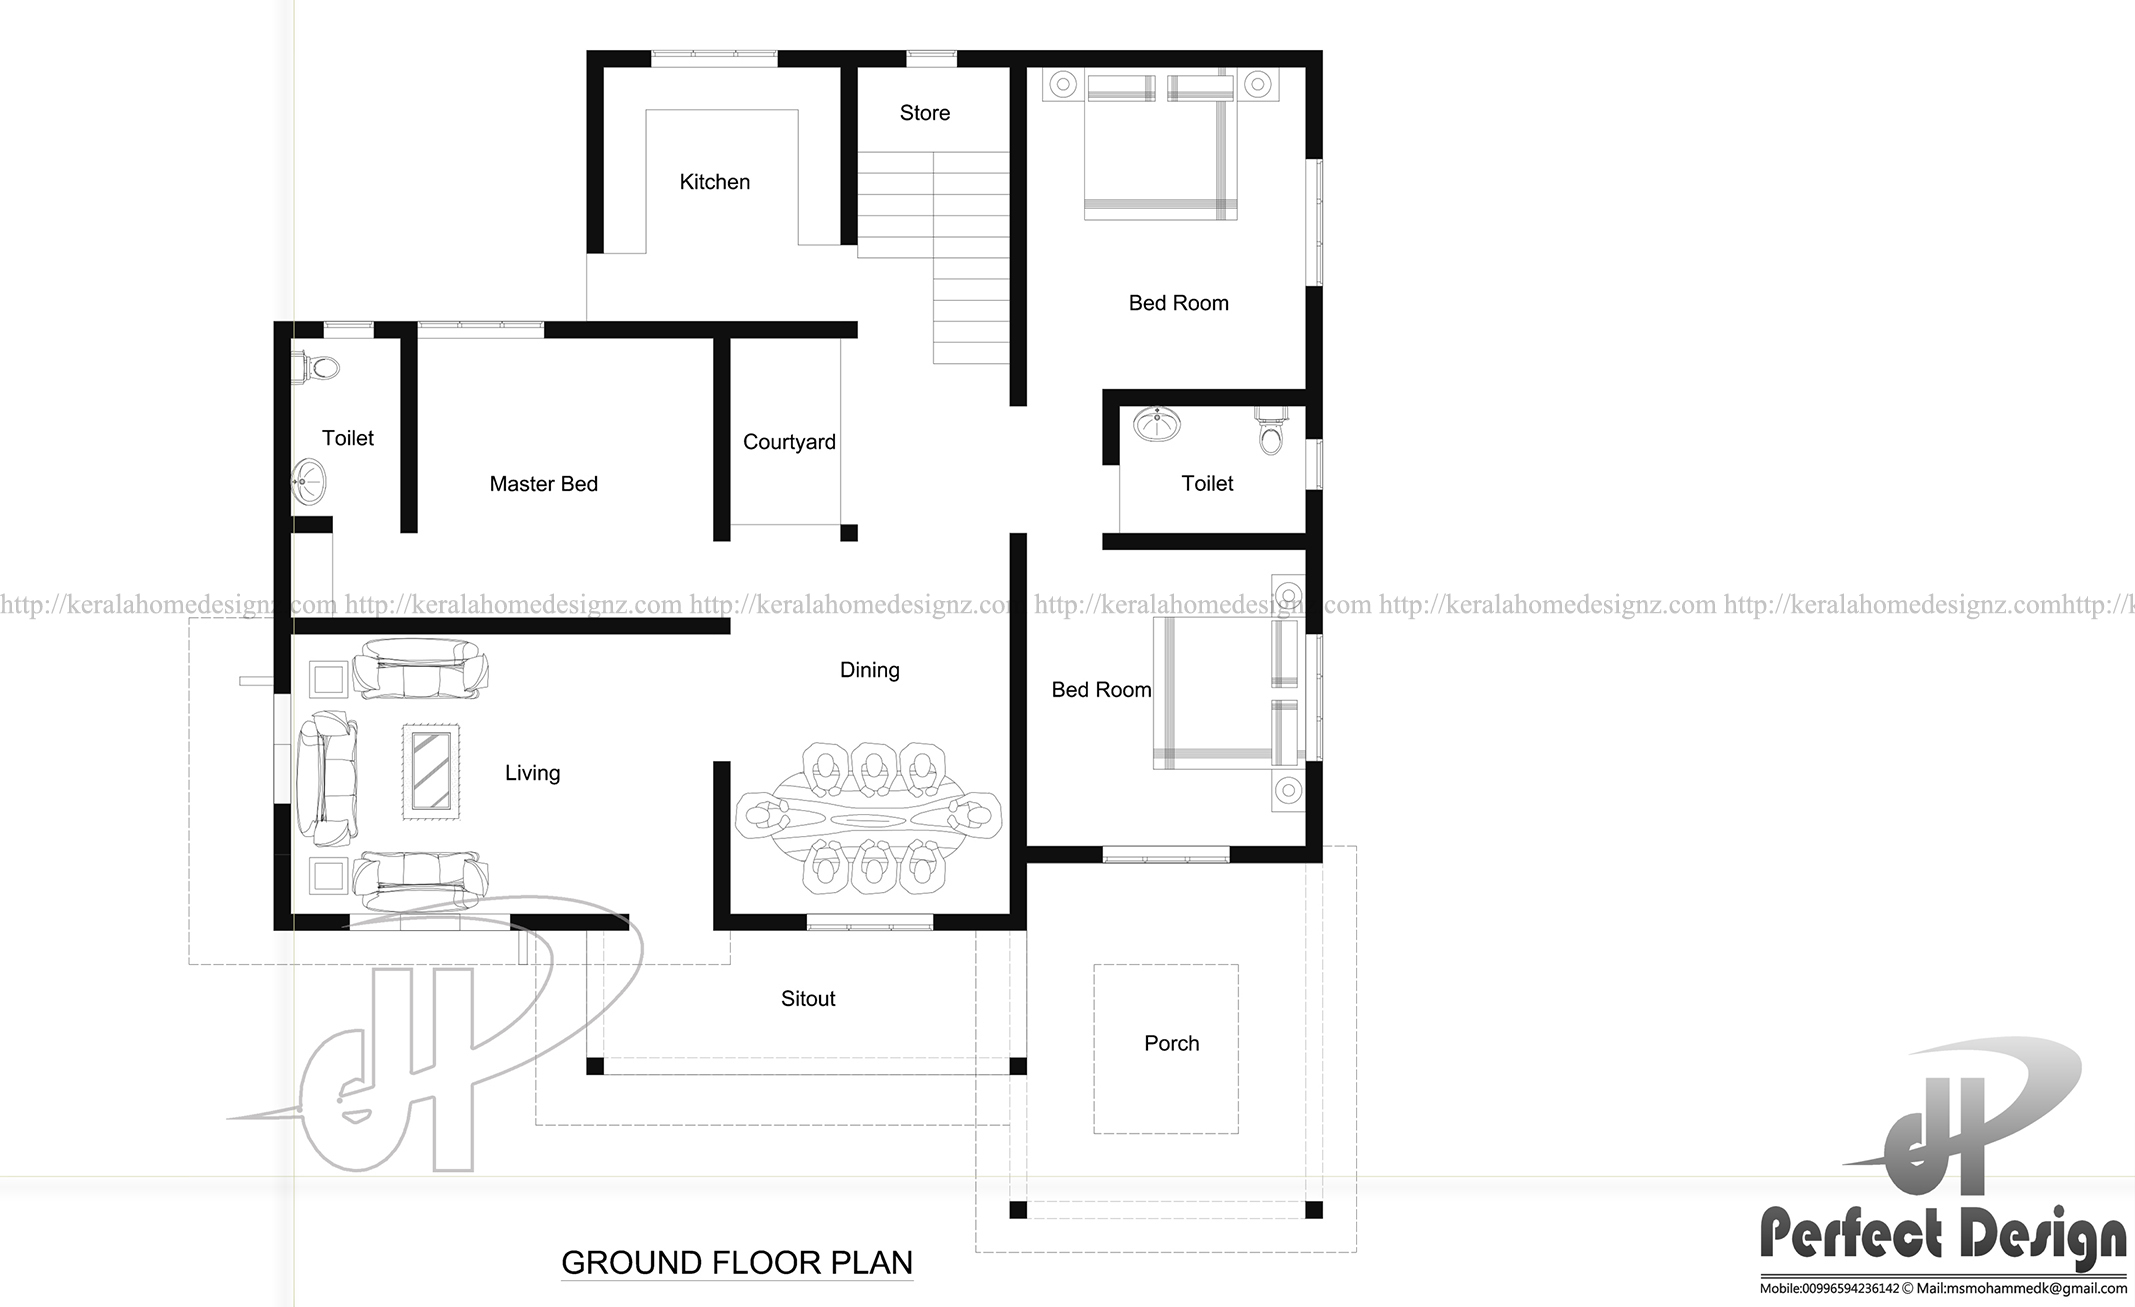wall: (1010, 69, 1028, 404), (290, 618, 730, 631), (1010, 532, 1026, 866), (1023, 50, 1322, 69), (546, 320, 857, 336), (586, 50, 605, 253), (840, 50, 859, 244), (274, 320, 291, 529), (714, 337, 730, 541), (400, 339, 416, 535), (1104, 534, 1308, 548), (715, 761, 730, 930), (1119, 389, 1302, 403), (274, 804, 291, 930), (509, 915, 630, 930), (1305, 759, 1322, 863), (1307, 285, 1322, 390), (933, 915, 1028, 932), (1305, 551, 1324, 634), (1307, 69, 1324, 159), (778, 50, 857, 69), (1025, 845, 1104, 863), (274, 529, 290, 624), (1232, 845, 1305, 863), (730, 914, 807, 930), (274, 625, 291, 694), (1010, 863, 1026, 930), (1104, 390, 1119, 464), (959, 50, 1022, 67), (1305, 490, 1322, 549), (589, 50, 651, 66), (291, 915, 351, 930), (1307, 387, 1324, 441), (859, 50, 907, 66), (374, 320, 416, 337), (291, 515, 332, 532)
